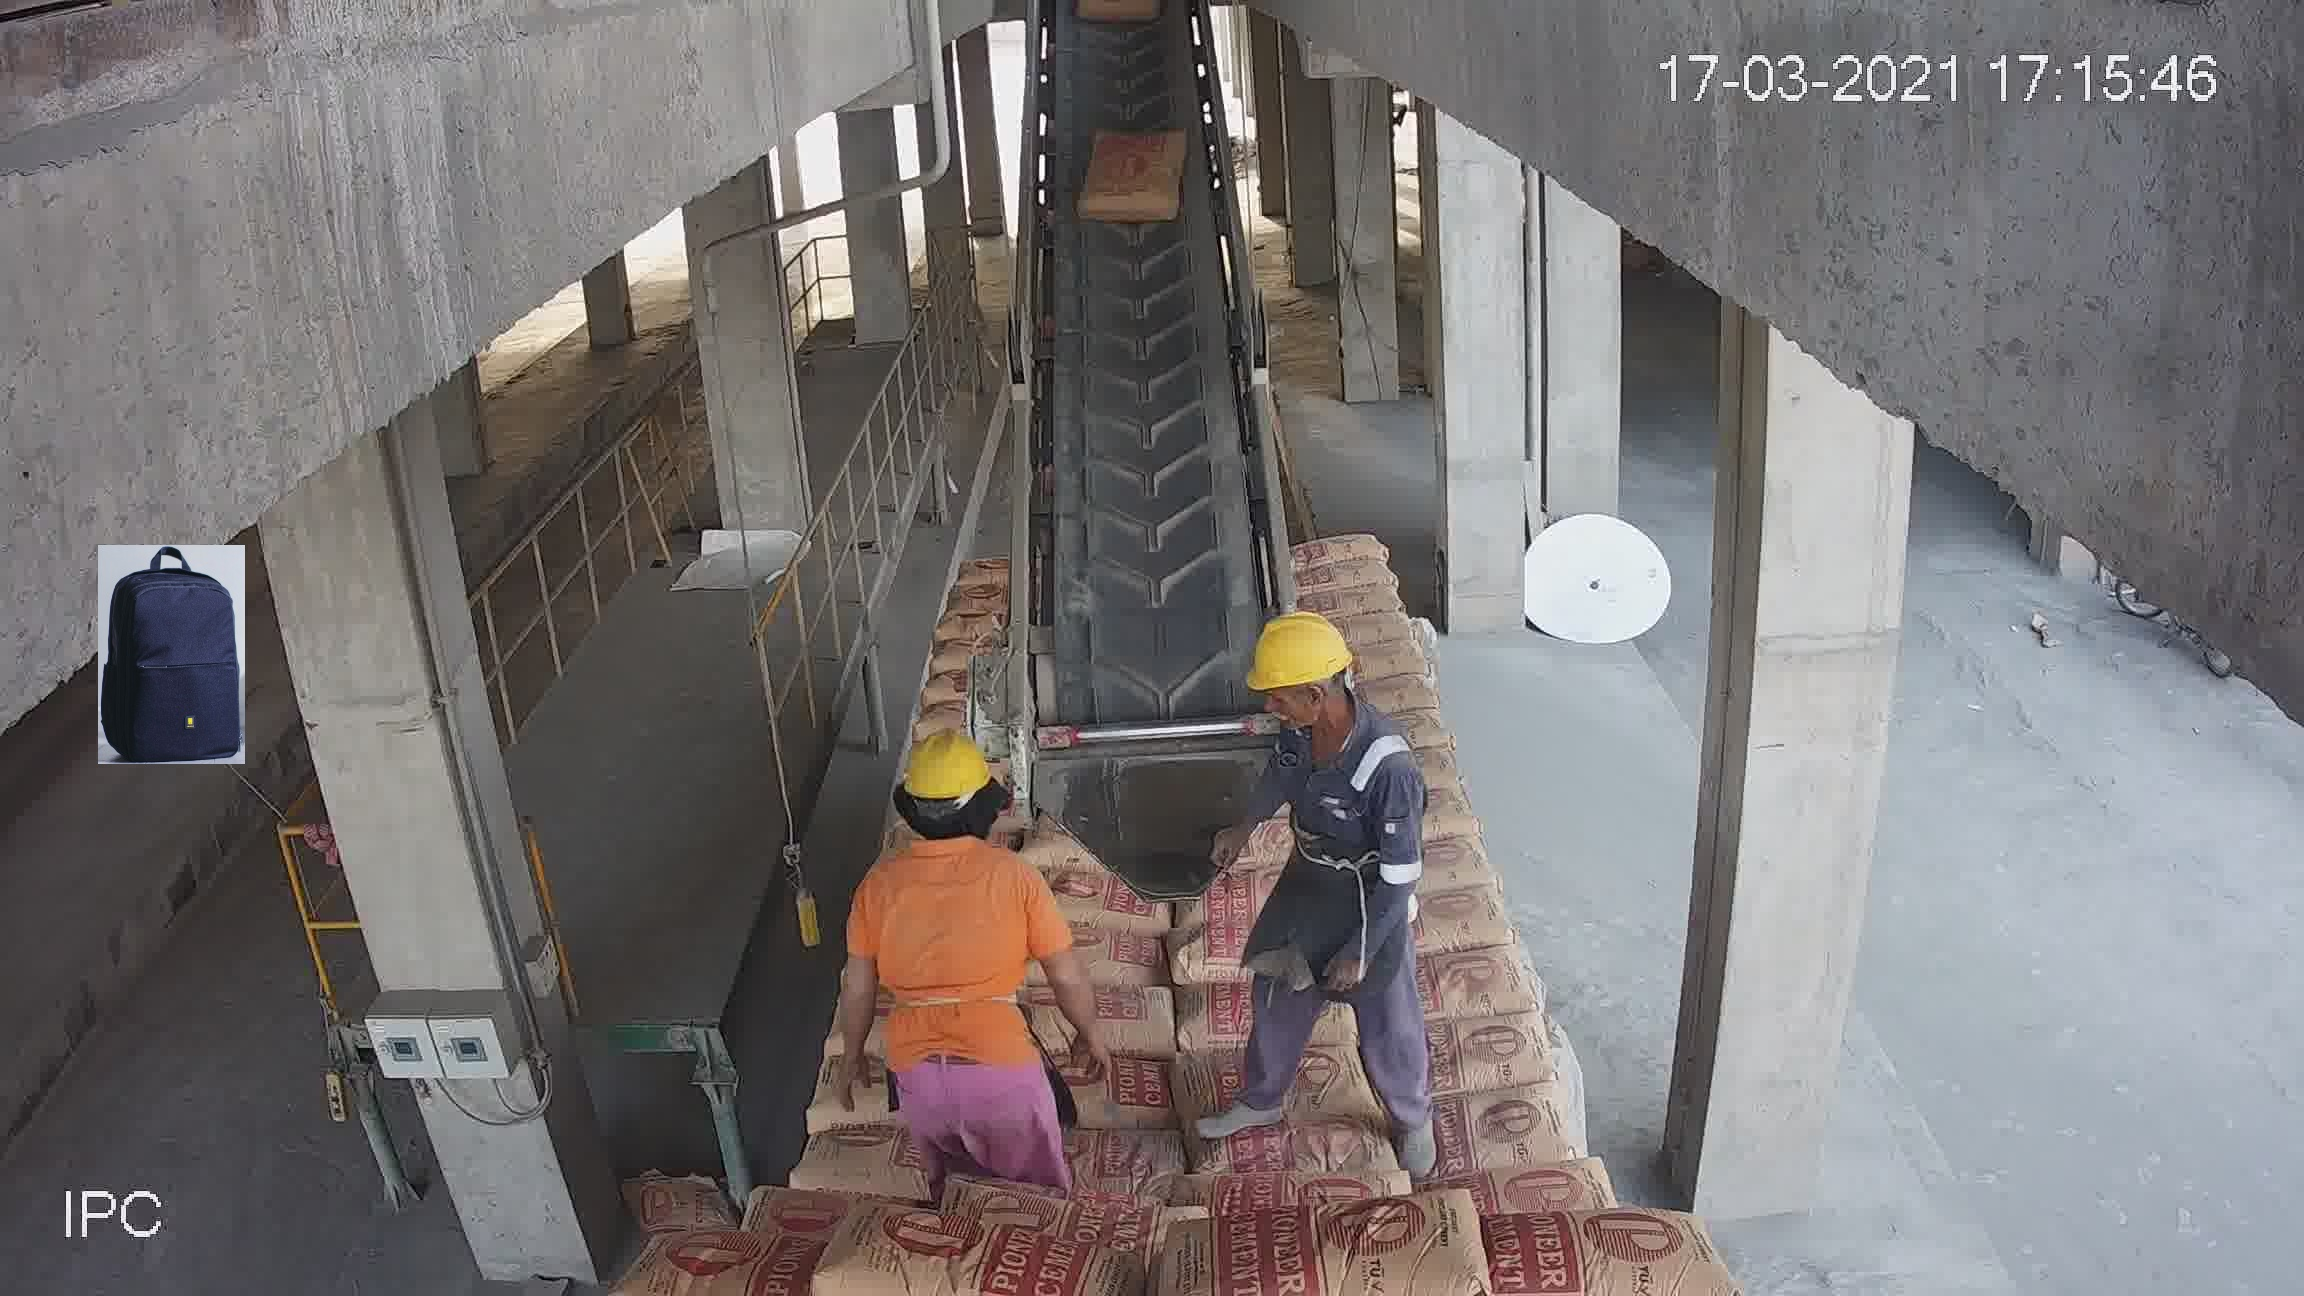bag: (1070, 127, 1185, 226)
bag_h: (1166, 1209, 1476, 1294), (1442, 1203, 1701, 1293), (809, 1222, 1109, 1296), (1400, 1016, 1581, 1109), (1385, 946, 1567, 1035), (1407, 1084, 1582, 1174), (608, 1223, 828, 1294), (1195, 1119, 1389, 1185), (1029, 980, 1173, 1067), (1180, 1165, 1415, 1217), (1438, 1161, 1609, 1223), (1290, 557, 1397, 600), (1290, 532, 1394, 571), (1309, 582, 1397, 620)
belt: (995, 28, 1260, 843)
